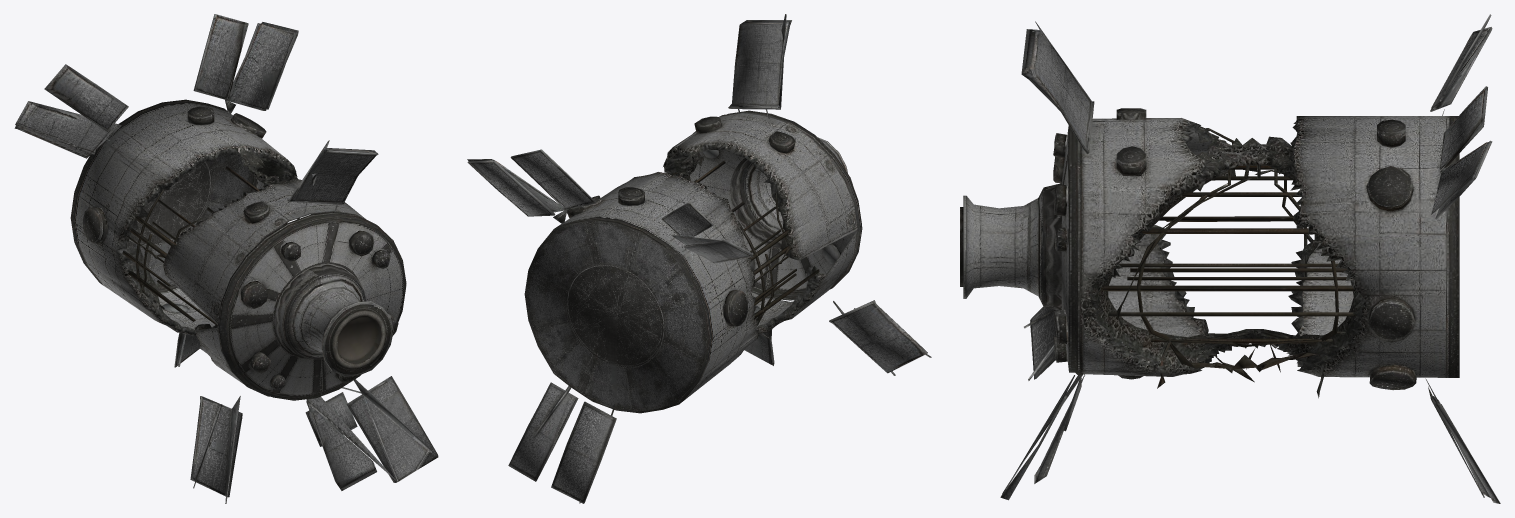
File: tripo_convert_7108f415-a864-4b34-ade0-80f0a7ae1b1b.fbx
The picture shows the model from 3 angles, left to right: view 1: azimuth 30°, elevation 25°; view 2: azimuth 150°, elevation 25°; view 3: azimuth 270°, elevation 25°; orthographic projection. The views are drawn at different scales.
Visible parts, largest first — view 1: tripo_node_7108f415; view 2: tripo_node_7108f415; view 3: tripo_node_7108f415.
Part boxes in pixels (box(x1,y1,x2,y2)): tripo_node_7108f415: box(14, 14, 438, 503); tripo_node_7108f415: box(467, 14, 931, 503); tripo_node_7108f415: box(960, 14, 1500, 503).
Bounding box in the file's own units: 0.7676 × 0.9355 × 0.998.
Materials: 1 (1 with a texture image).
